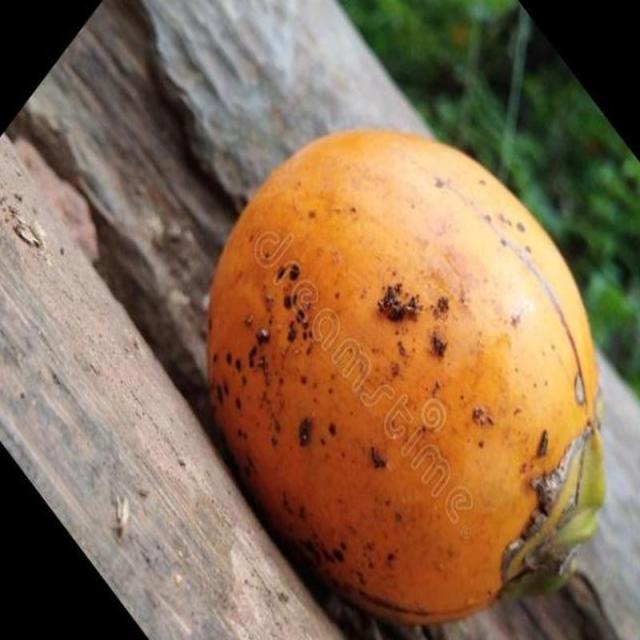good: (205, 128, 612, 631)
